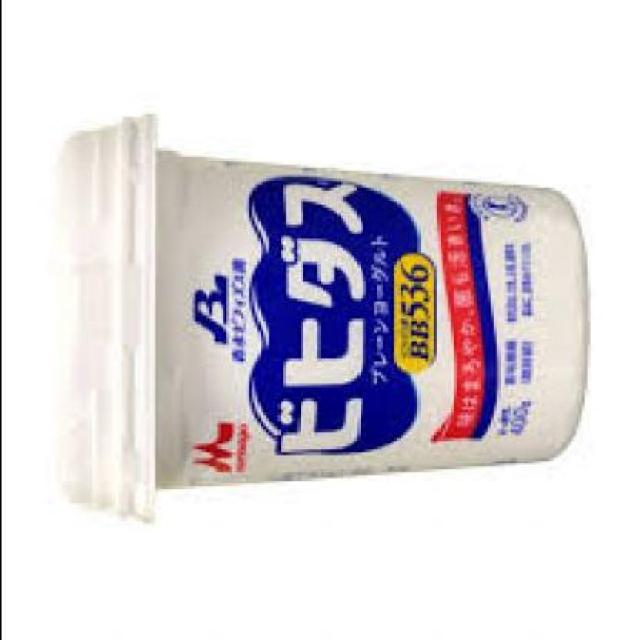PLASTIC: (54, 117, 577, 529), (55, 117, 153, 529)
